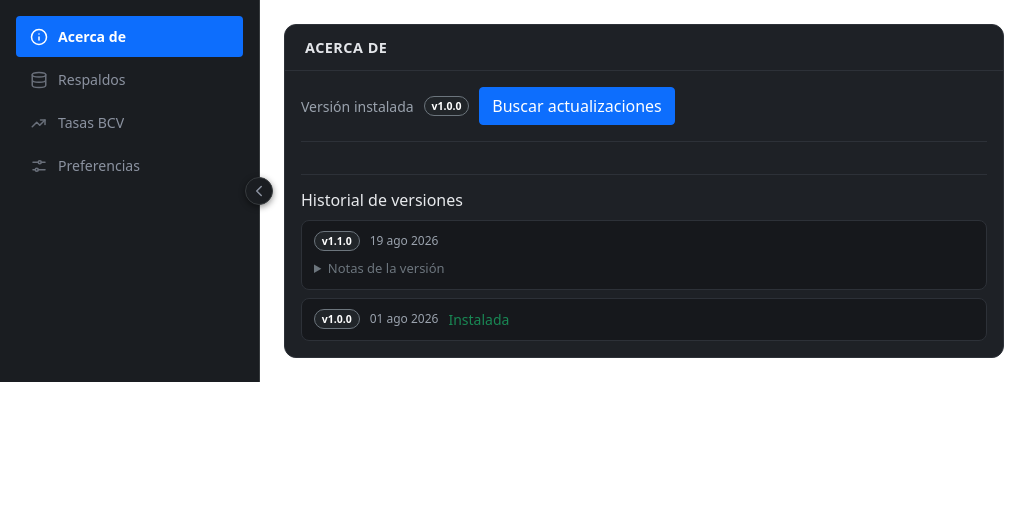
flujo con update disponible: notas + descargar + reiniciar
Click the button "Buscar actualizaciones" at (577, 106), box [479,87,675,125]
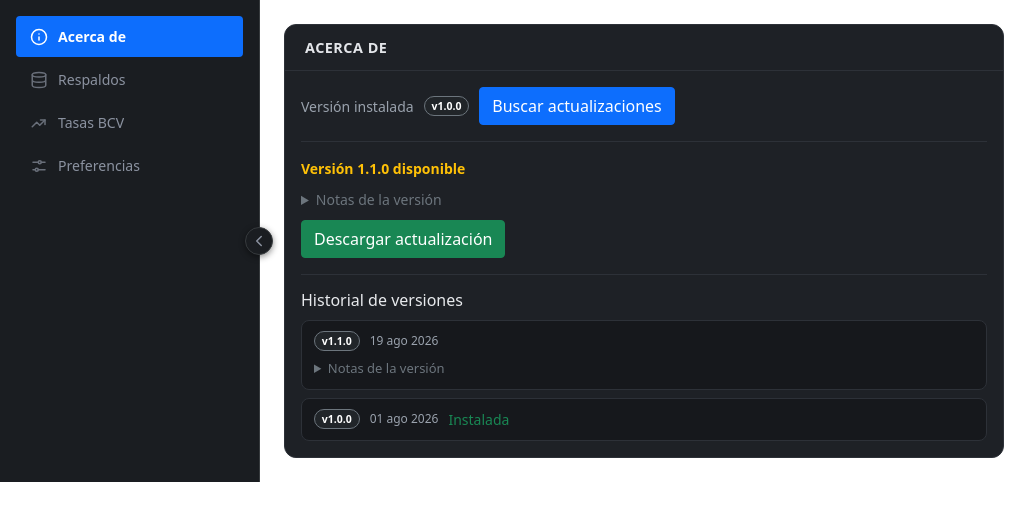
expect the text "Versión 1.1.0 disponible" is shown: met, box [301,158,465,179]
Click the button "Descargar actualización" at (403, 239), box [301,220,506,258]
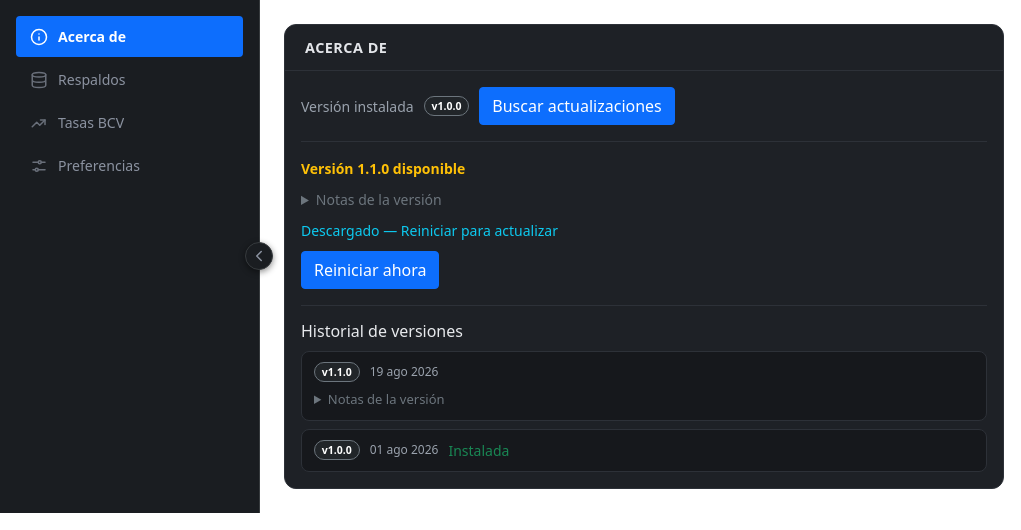
expect the text "Descargado — Reiniciar para actualizar" is shown: met, box [301,220,558,241]
Click the button "Reiniciar ahora" at (370, 270), box [301,251,440,289]
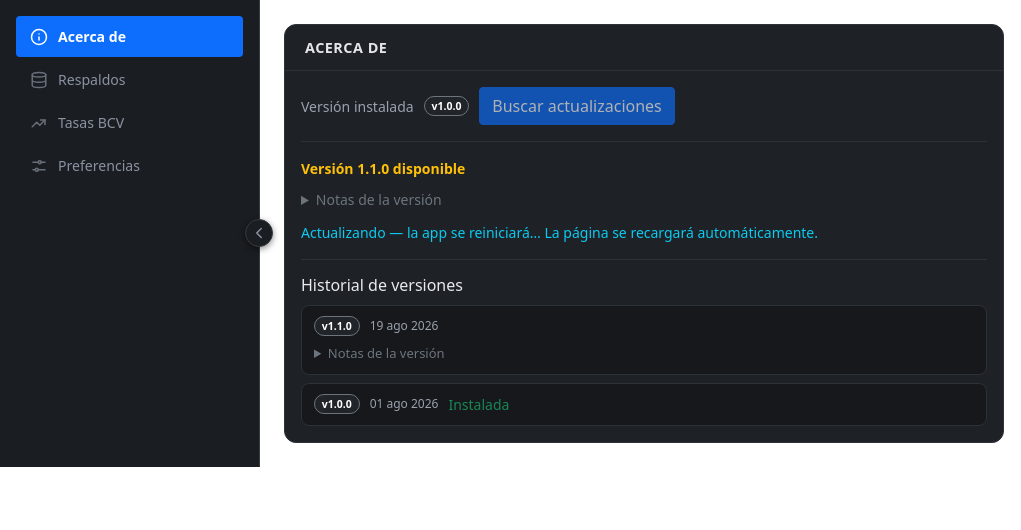
expect the text "Actualizando — la app se reiniciará" is shown: met, box [301,223,818,242]
